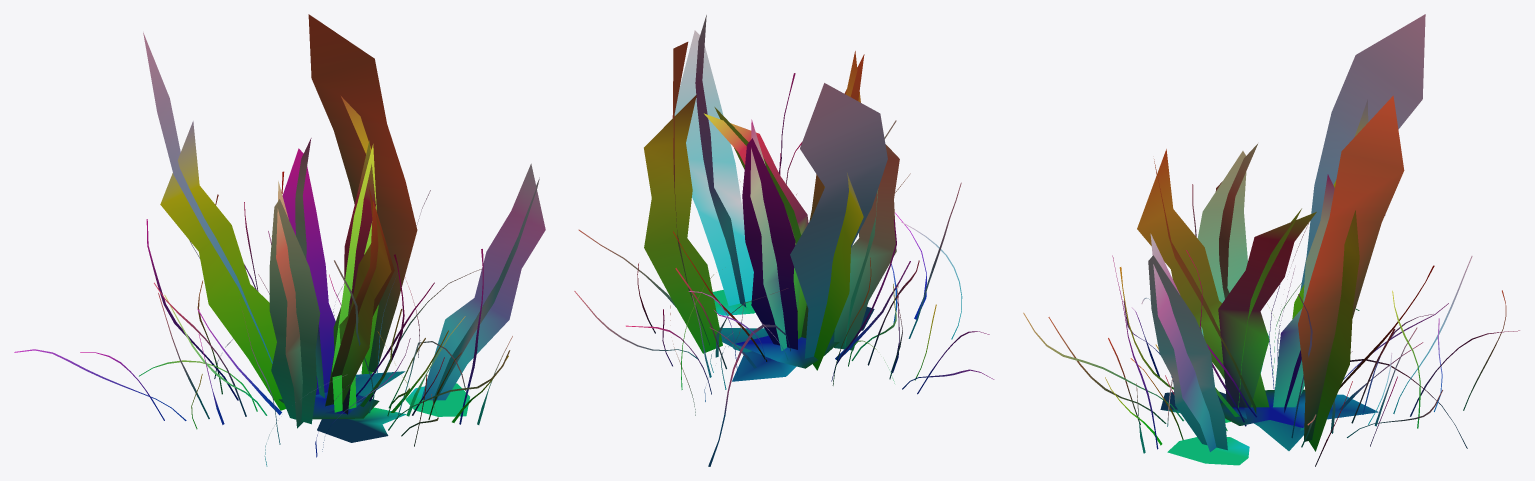
Rendered from uddmcgbia_VarB_LOD0.fbx.
3 views of the same model, side by side, from view 1: azimuth 30°, elevation 25°; view 2: azimuth 150°, elevation 25°; view 3: azimuth 270°, elevation 25° (orthographic).
Visible parts, largest first — view 1: _1de7_VarB_LOD0; view 2: _1de7_VarB_LOD0; view 3: _1de7_VarB_LOD0.
Boxes of the visible parts, bbox=[...] form: _1de7_VarB_LOD0: bbox=[14, 14, 545, 466]; _1de7_VarB_LOD0: bbox=[574, 15, 994, 466]; _1de7_VarB_LOD0: bbox=[1023, 14, 1519, 466].
Bounding box in the file's own units: 15.53 × 12.77 × 14.79.
